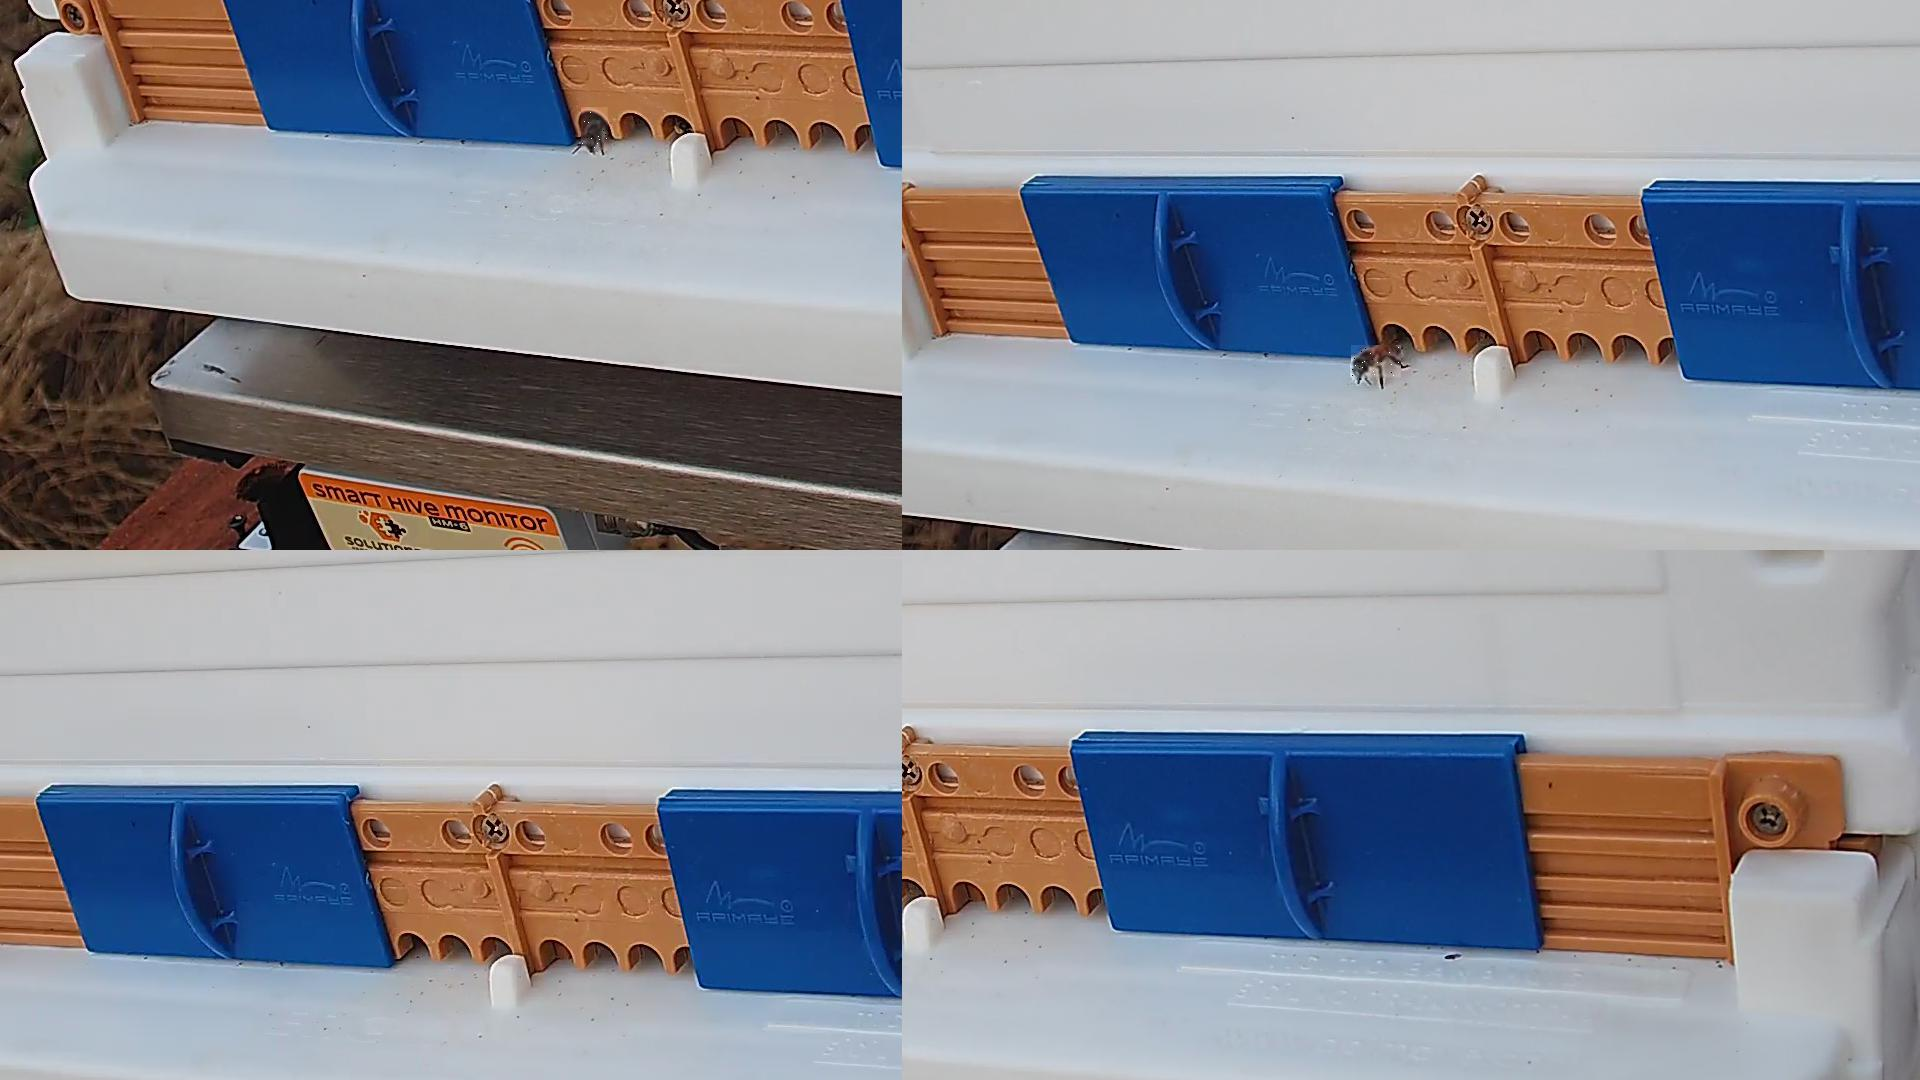bee: (1352, 345, 1402, 381), (582, 107, 609, 152)
